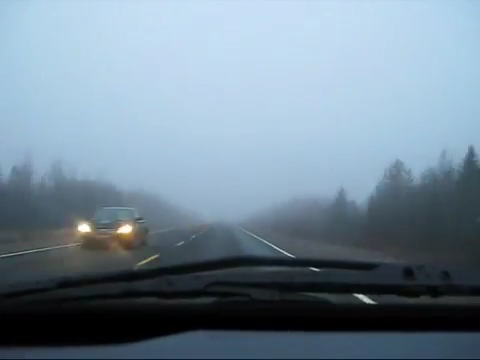car: (77, 205, 150, 250)
